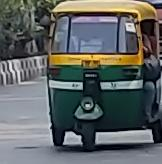Auto: (46, 1, 162, 153)
